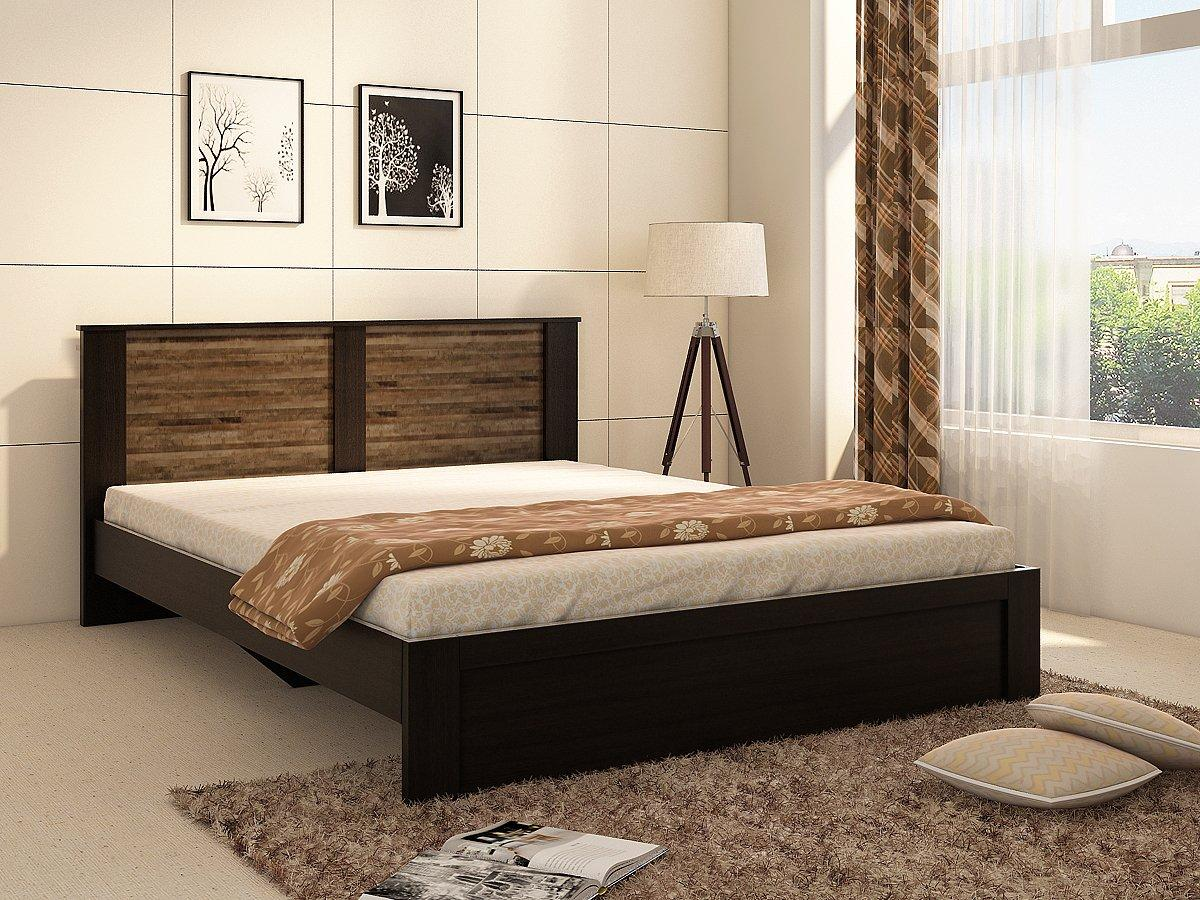bed: (114, 370, 844, 610)
